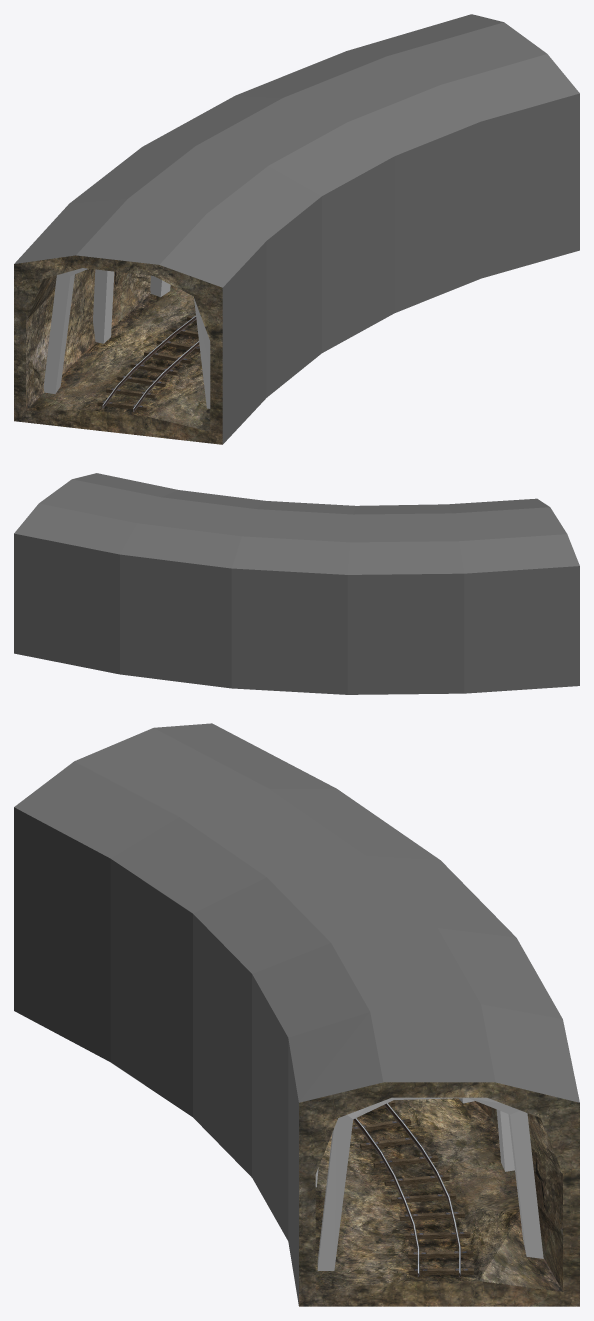
The model's file is svgoldmine07.dae.
3 renders of one model, top to bottom at view 1: azimuth 30°, elevation 25°; view 2: azimuth 150°, elevation 25°; view 3: azimuth 270°, elevation 25°, orthographic. The views are drawn at different scales.
Parts seen in each view (by area): view 1: cylinder46_copy67-0; view 2: cylinder46_copy67-0; view 3: cylinder46_copy67-0.
Part boxes in pixels (<box>): cylinder46_copy67-0: <box>14,14,579,444</box>; cylinder46_copy67-0: <box>14,473,579,694</box>; cylinder46_copy67-0: <box>14,723,579,1306</box>.
Size of the model in its own units: 4792 by 1320 by 3021.
